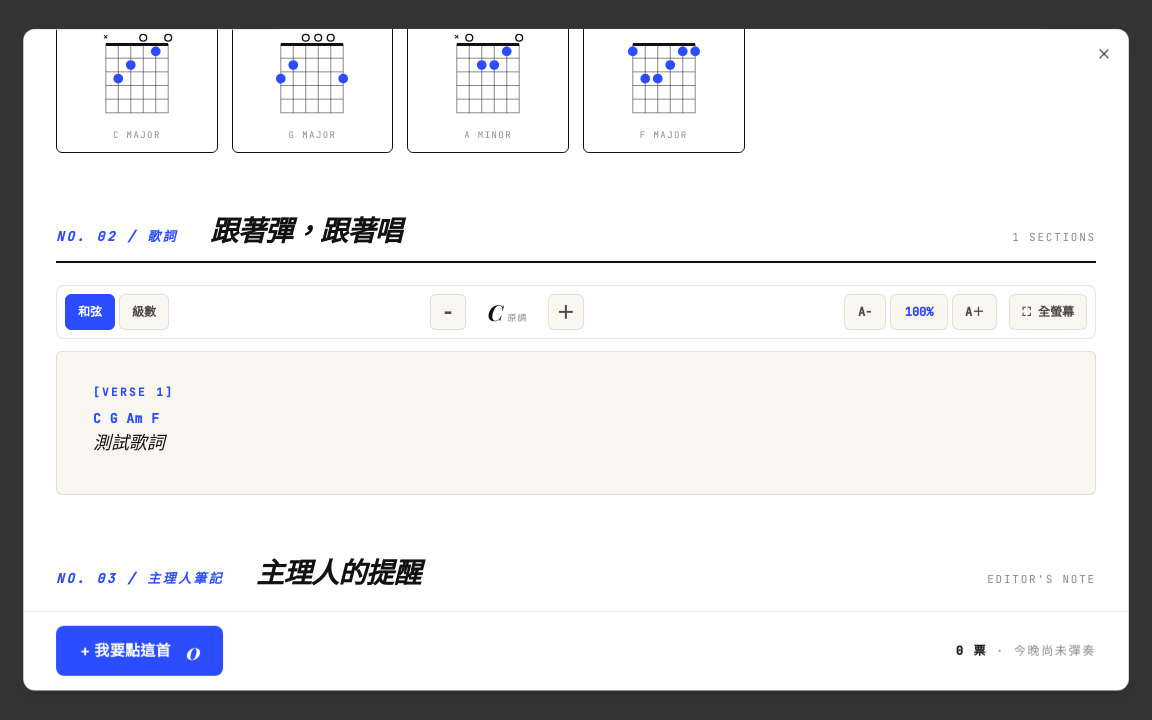
Test case: 收藏 AI 吉他譜顯示控制 › 可切換成級數顯示
This screenshot has width=1152, height=720.
(page scrolled)
Click the button with aria-label "切換為級數顯示": (144, 312) [119,294,169,330]
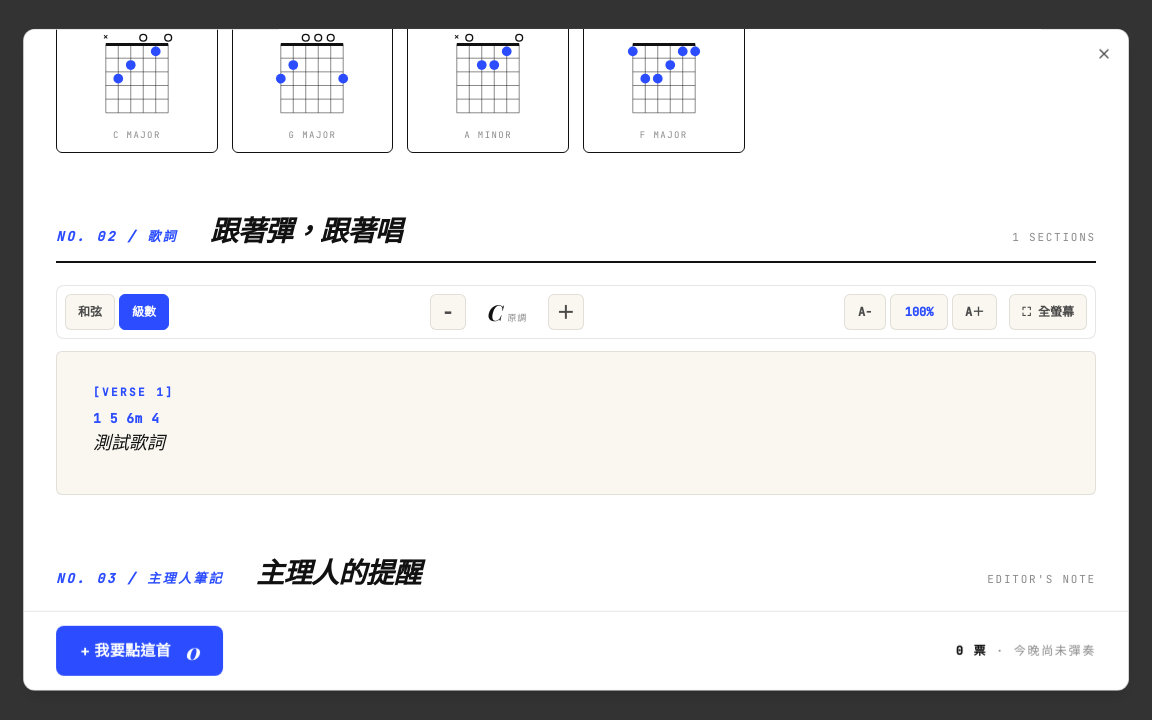
Now the text with class "sdp-lyr-chord" reads "1 5 6m 4", box [93,410,160,427]
